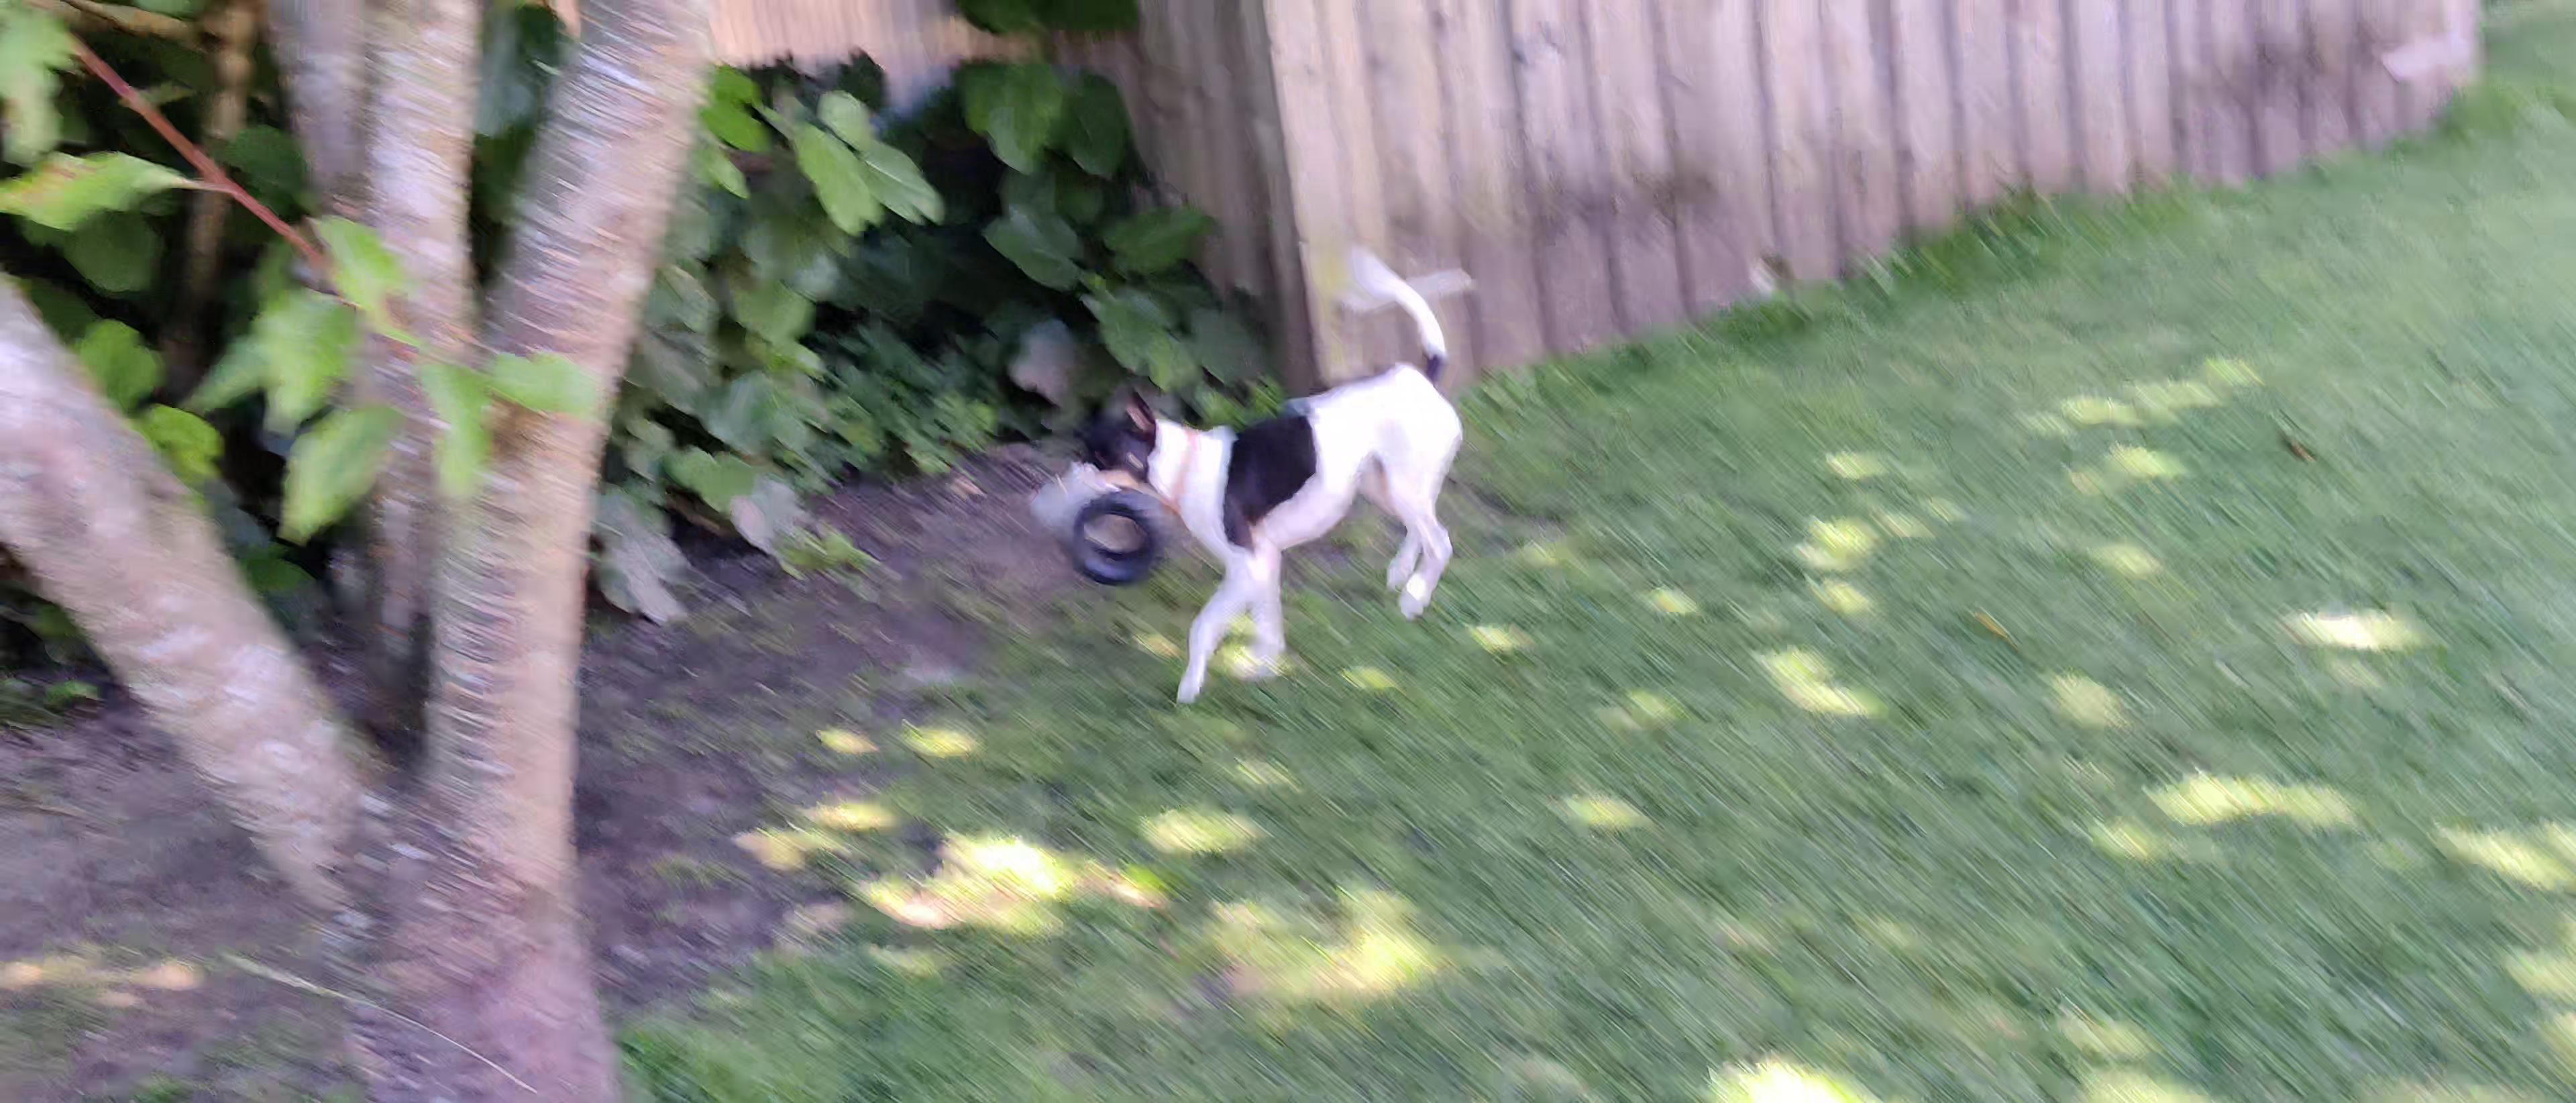Dog: (1038, 235, 1470, 708)
